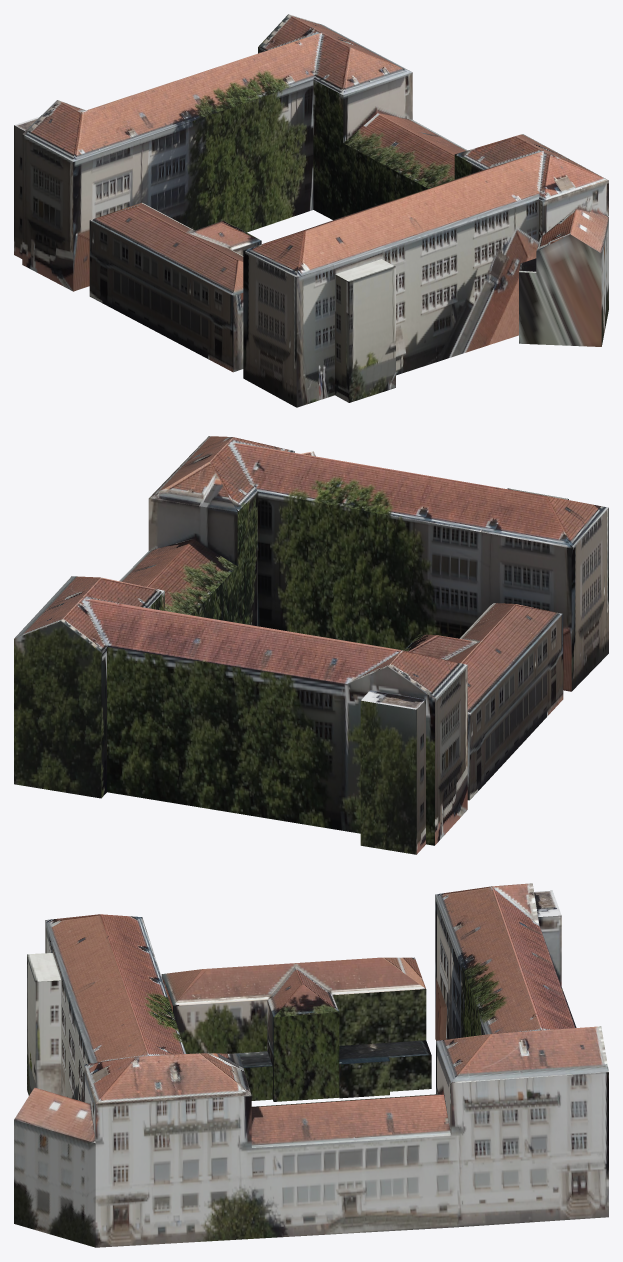
3 views of the same model, one above another, from view 1: azimuth 30°, elevation 25°; view 2: azimuth 150°, elevation 25°; view 3: azimuth 270°, elevation 25° (orthographic). The views are drawn at different scales.
Parts seen in each view (by area): view 1: Z_UP; view 2: Z_UP; view 3: Z_UP.
Part boxes in pixels (left/top/right/bottom): Z_UP: left=14, top=14, right=608, bottom=407; Z_UP: left=14, top=436, right=608, bottom=854; Z_UP: left=14, top=883, right=608, bottom=1247.
Bounding box in the file's own units: 61.95 × 22.99 × 72.57.
2 materials, 1 textured.
